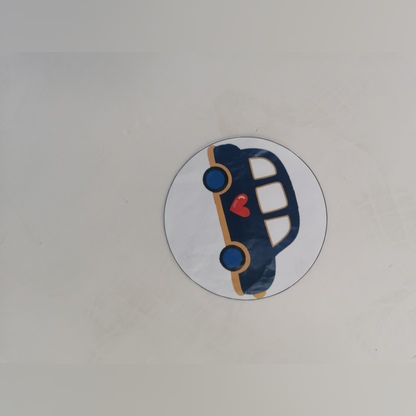car: (181, 115, 321, 307)
